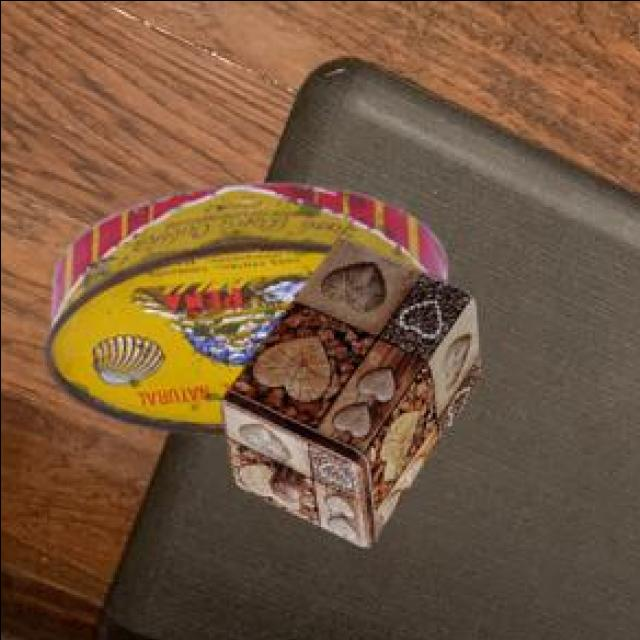logam: (49, 185, 448, 437), (222, 240, 483, 549)
